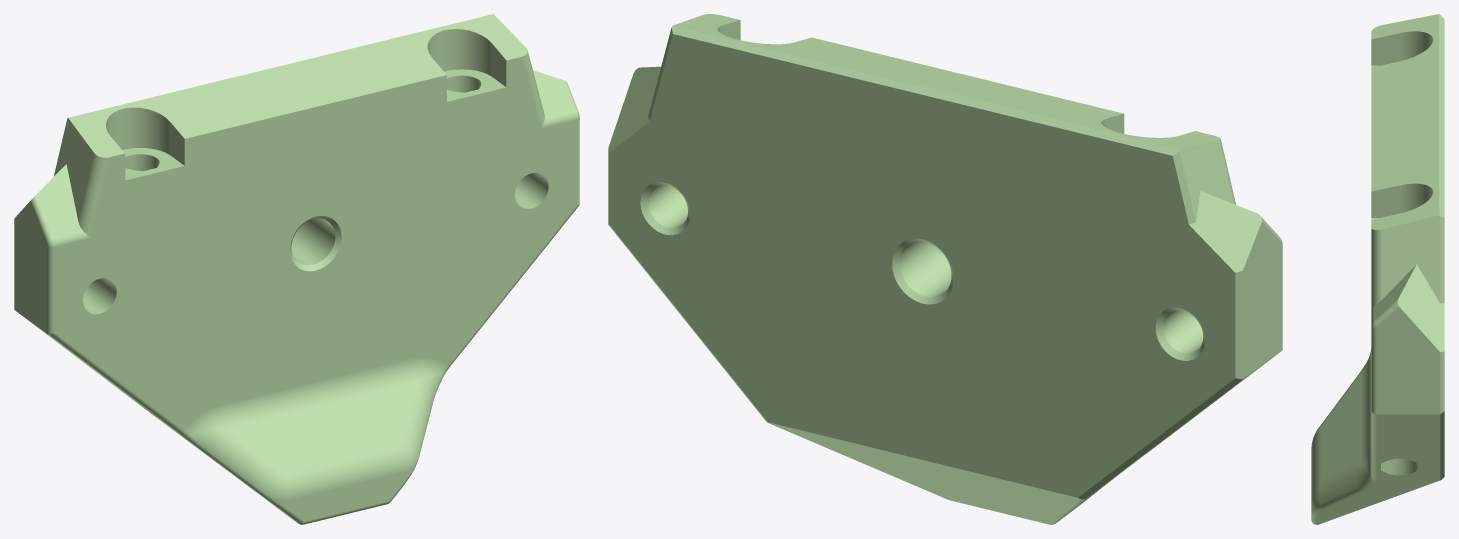
File: A4T - WWBMG - Extruder Adapter [cw2-tap].gltf
The picture shows the model from 3 angles, left to right: view 1: azimuth 30°, elevation 25°; view 2: azimuth 150°, elevation 25°; view 3: azimuth 270°, elevation 25°; orthographic projection. The views are drawn at different scales.
Visible parts, largest first — view 1: A4T - WWBMG - Extruder Adapter [cw2-tap] - 6T; view 2: A4T - WWBMG - Extruder Adapter [cw2-tap] - 6T; view 3: A4T - WWBMG - Extruder Adapter [cw2-tap] - 6T.
Part boxes in pixels (left/top/right/bottom): A4T - WWBMG - Extruder Adapter [cw2-tap] - 6T: left=14, top=14, right=579, bottom=524; A4T - WWBMG - Extruder Adapter [cw2-tap] - 6T: left=608, top=14, right=1282, bottom=524; A4T - WWBMG - Extruder Adapter [cw2-tap] - 6T: left=1311, top=14, right=1444, bottom=524.
Size of the model in its own units: 0.0536 by 0.0387 by 0.012.
